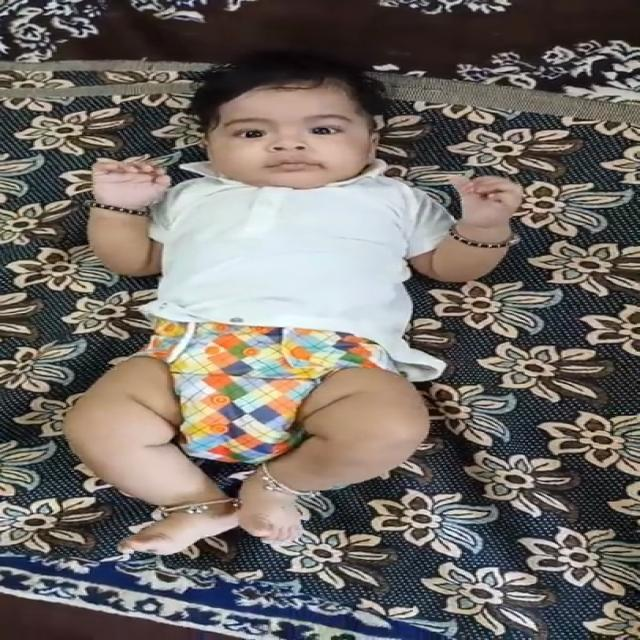baby: (51, 49, 540, 560)
